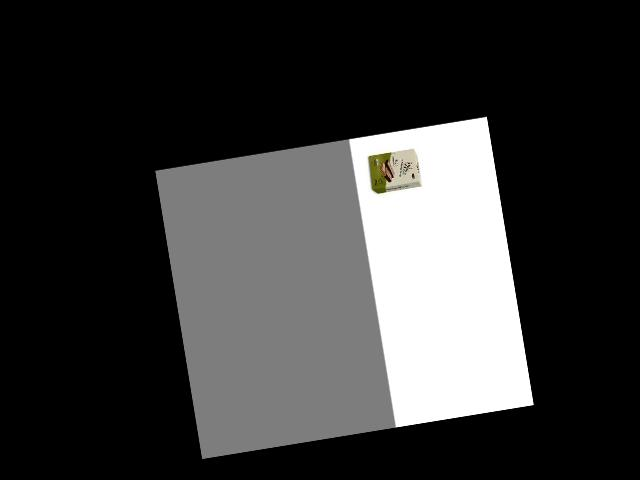chocolate: (365, 147, 423, 197)
